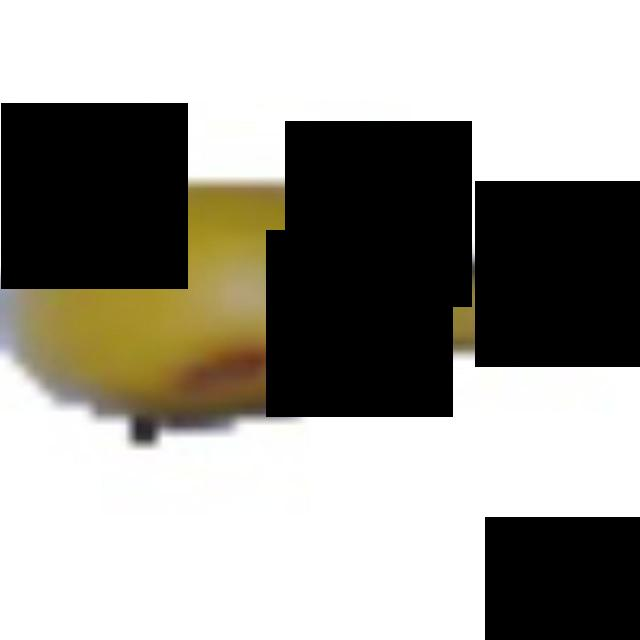banana: (0, 147, 634, 467)
